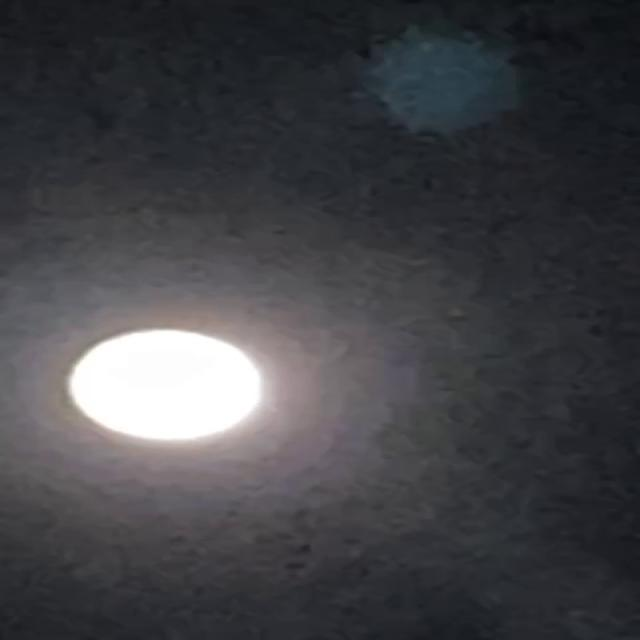moon: (55, 317, 285, 461)
